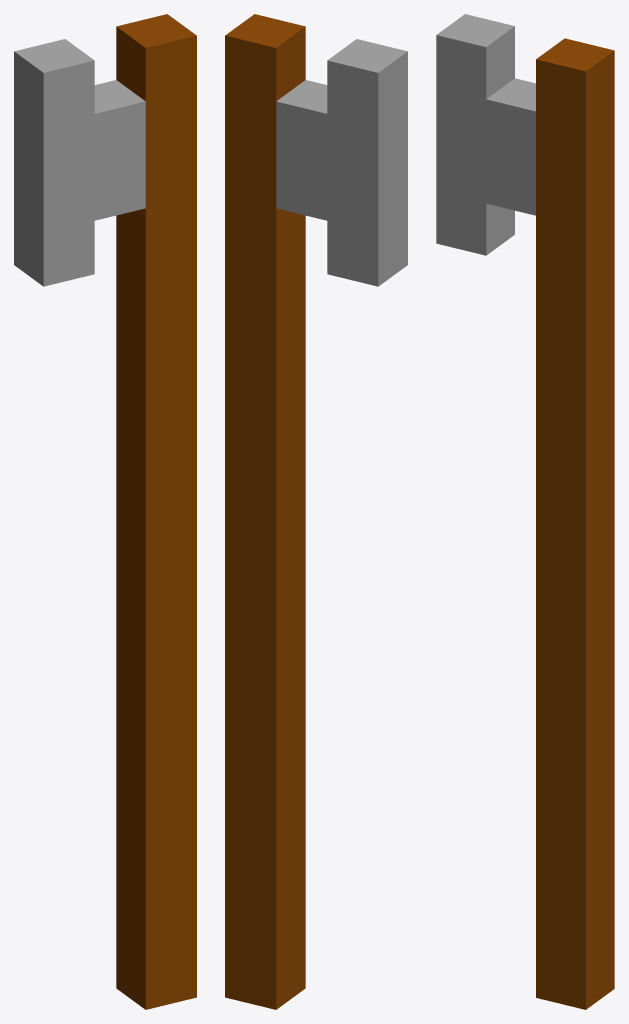
The model's file is axe.obj.
3 renders of one model, left to right at view 1: azimuth 30°, elevation 25°; view 2: azimuth 150°, elevation 25°; view 3: azimuth 330°, elevation 25°, orthographic. The views are drawn at different scales.
Bounding box in the file's own units: 0.3 × 1.8 × 0.1.
1 material, 1 textured.
